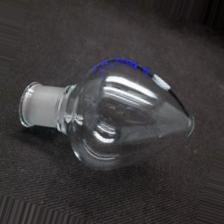Pear shaped flask: (18, 68, 200, 165)
